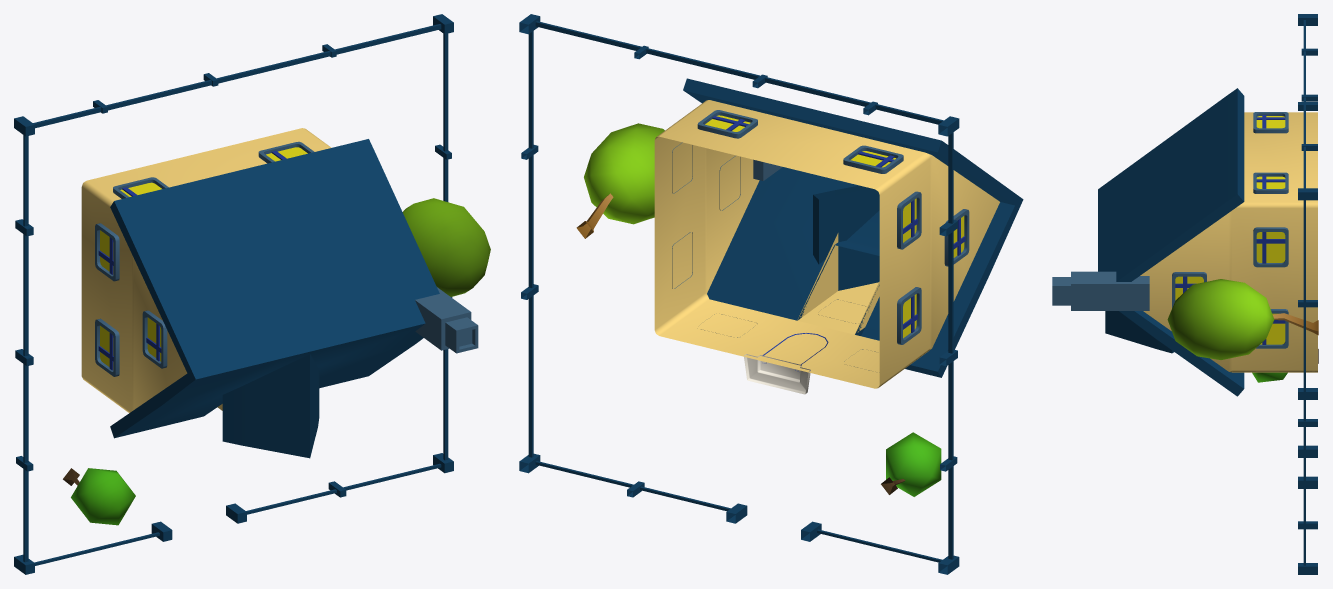
File: Simple_House_01_05.fbx
The picture shows the model from 3 angles, left to right: view 1: azimuth 30°, elevation 25°; view 2: azimuth 150°, elevation 25°; view 3: azimuth 270°, elevation 25°; orthographic projection. The views are drawn at different scales.
Visible parts, largest first — view 1: Simple_House_01_05; view 2: Simple_House_01_05; view 3: Simple_House_01_05.
Boxes of the visible parts, x1=… form: Simple_House_01_05: x1=14, y1=14, x2=490, y2=574; Simple_House_01_05: x1=519, y1=14, x2=1023, y2=574; Simple_House_01_05: x1=1052, y1=14, x2=1318, y2=574.
Size of the model in its own units: 197 by 197 by 124.
